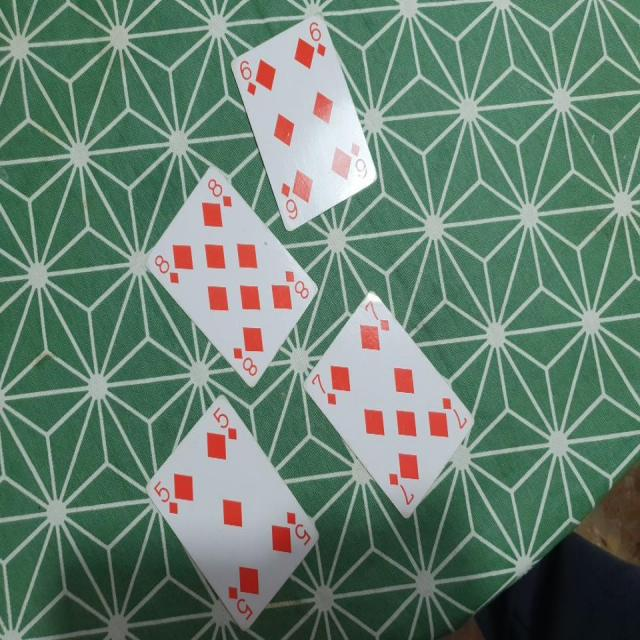5 Diamonds: (144, 391, 321, 632)
6 Diamonds: (228, 7, 378, 234)
7 Diamonds: (299, 292, 475, 522)
8 Diamonds: (146, 164, 316, 388)
